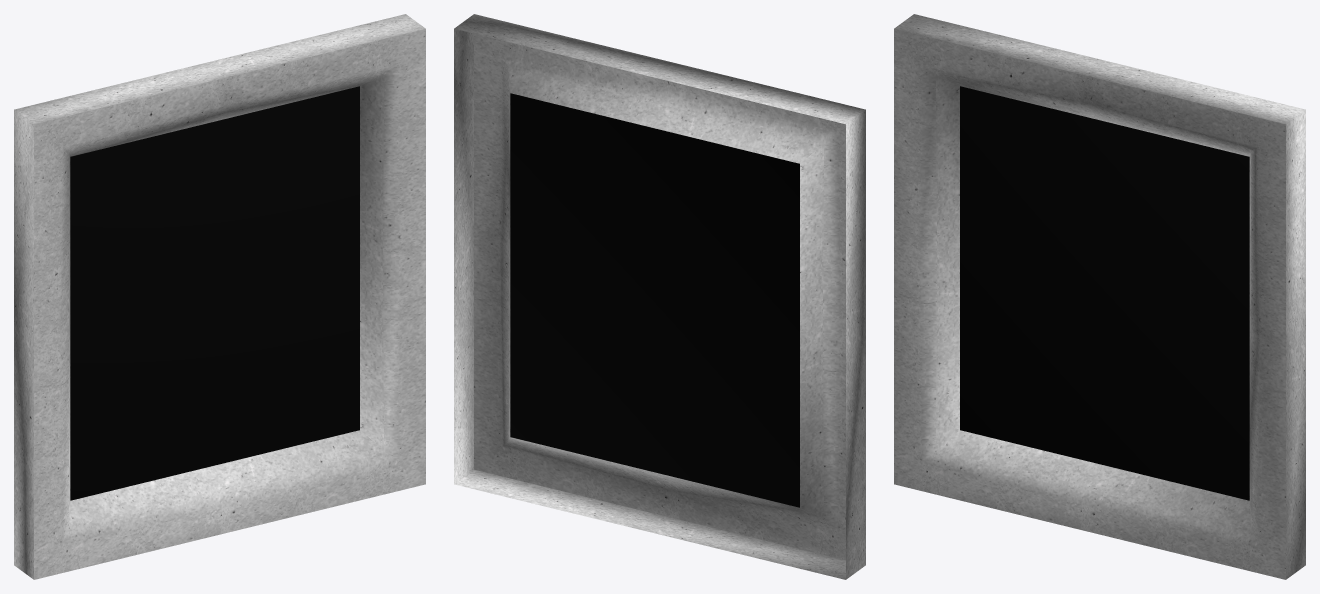
Rendered from ModularWall_005.FBX.
The picture shows the model from 3 angles, left to right: view 1: azimuth 30°, elevation 25°; view 2: azimuth 150°, elevation 25°; view 3: azimuth 330°, elevation 25°; orthographic projection.
Visible parts, largest first — view 1: ModularWall_005; view 2: ModularWall_005; view 3: ModularWall_005.
Boxes of the visible parts, x1,y1,x2,y2 form: ModularWall_005: (14,14,425,579); ModularWall_005: (454,14,865,579); ModularWall_005: (894,14,1305,579).
Bounding box in the file's own units: 22.86 × 25.4 × 2.03.
